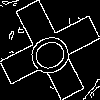O: (25, 25, 84, 81)
